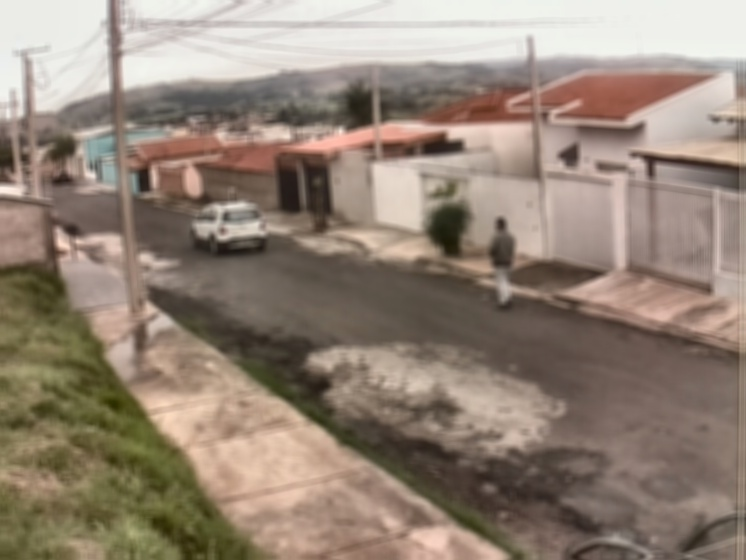person: (486, 215, 519, 311)
